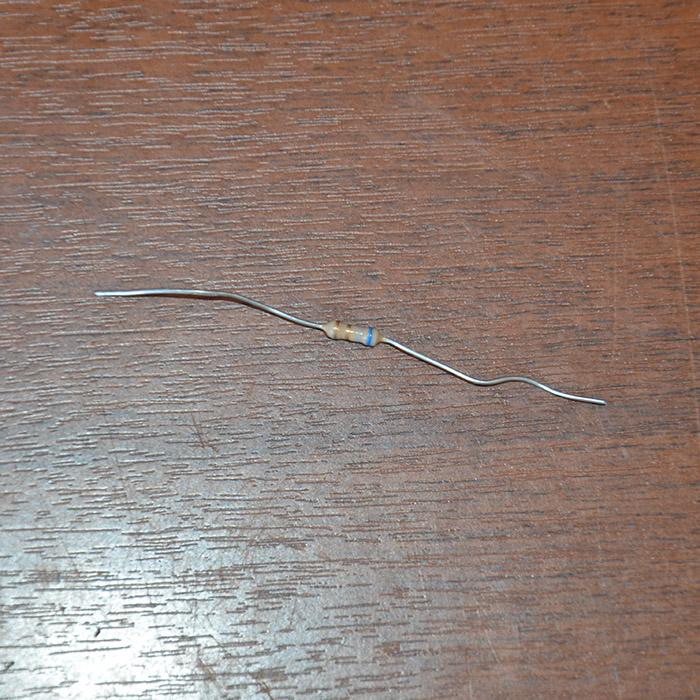resistor: (322, 320, 381, 347)
